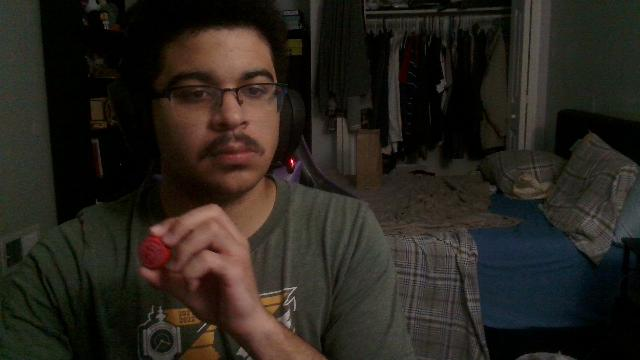cap: (140, 236, 170, 268)
